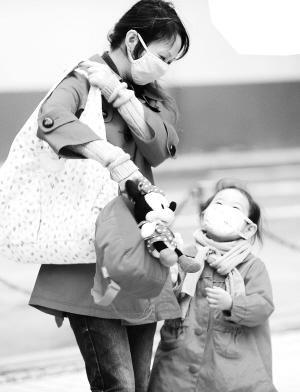OK: (128, 40, 176, 88), (208, 195, 253, 240)
